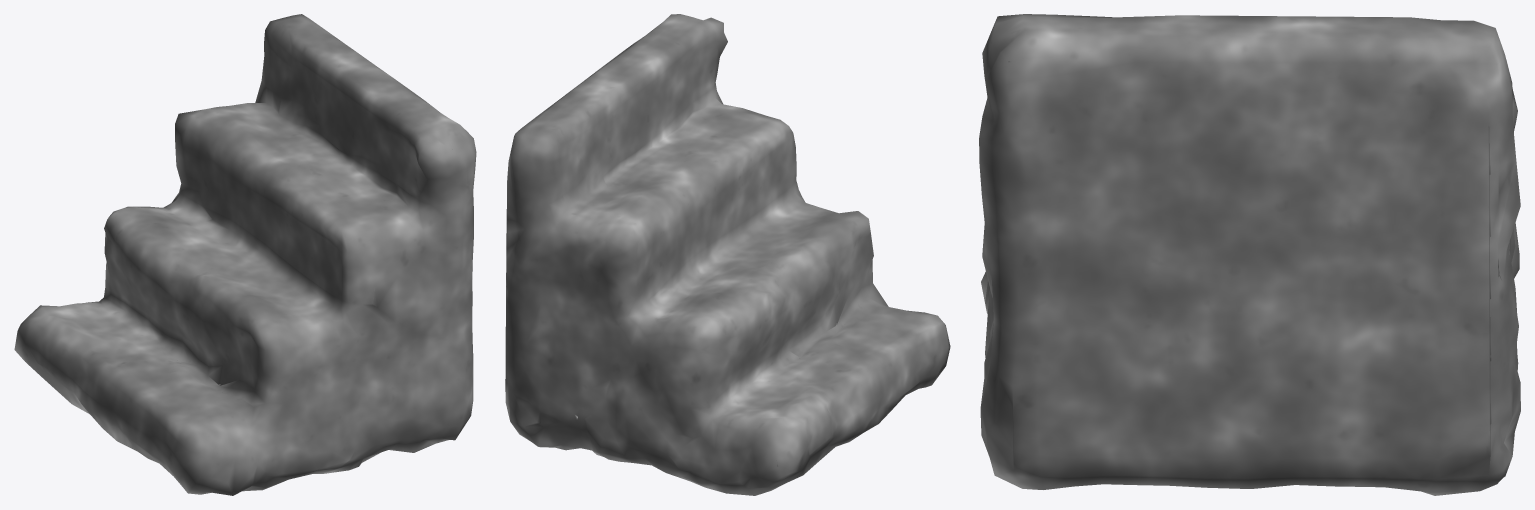
The model's file is Main Rock 8.fbx.
3 views of the same model, side by side, from view 1: azimuth 30°, elevation 25°; view 2: azimuth 150°, elevation 25°; view 3: azimuth 270°, elevation 25° (orthographic). The views are drawn at different scales.
Parts seen in each view (by area): view 1: Main Rock 8 Stairs 1; view 2: Main Rock 8 Stairs 1; view 3: Main Rock 8 Stairs 1.
Boxes of the visible parts, x1,y1,x2,y2 form: Main Rock 8 Stairs 1: (14,14,476,495); Main Rock 8 Stairs 1: (505,14,950,495); Main Rock 8 Stairs 1: (979,14,1520,495).
Bounding box in the file's own units: 176 × 182 × 189.
